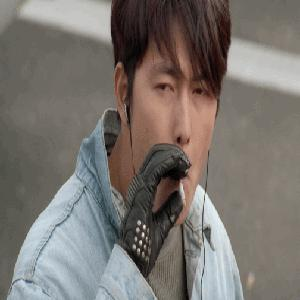cigarette: (177, 179, 191, 209)
